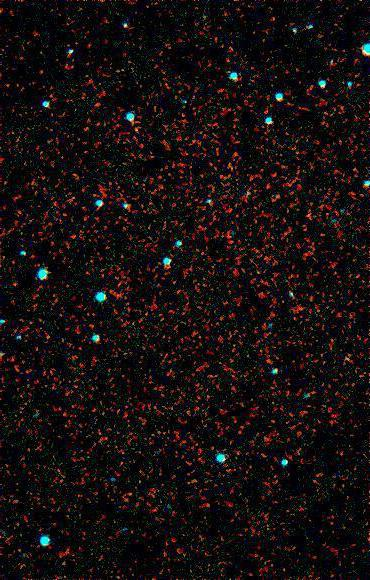star: (130, 115, 160, 145)
